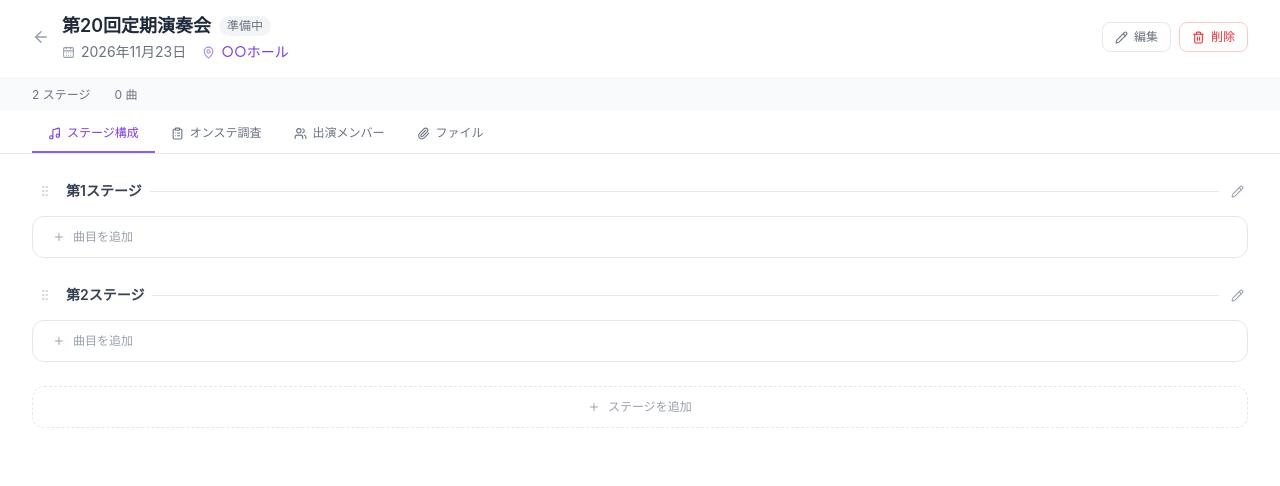
it: ConcertDetailPage（失敗の表示） › ステージ名の保存に失敗したあと、編集を取り消すとエラーを消す
Click the button named "第1ステージの名前を編集". click: (1238, 191)
box: [1227, 180, 1248, 202]
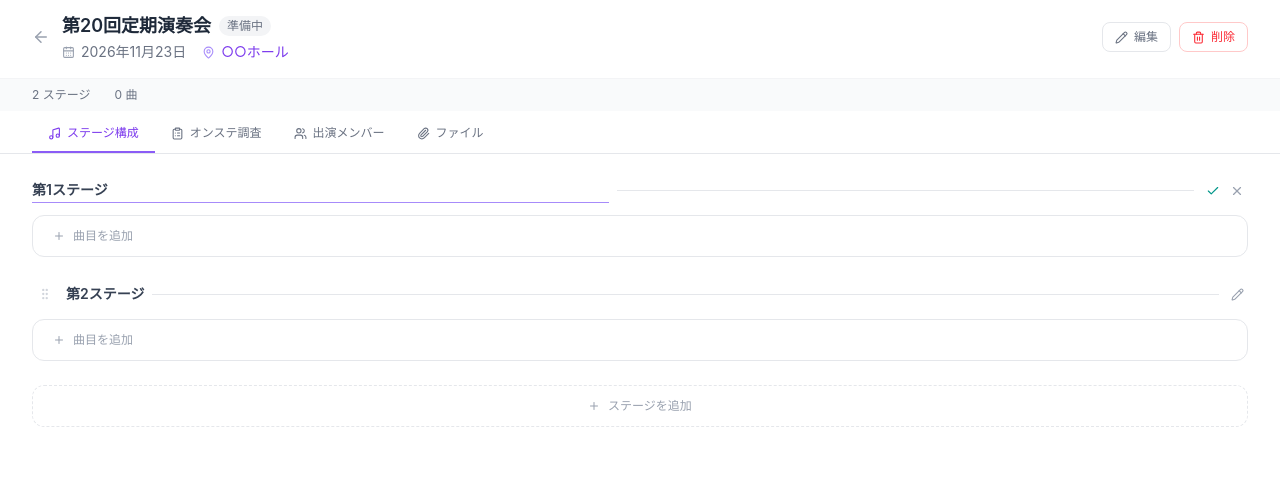
Type "改" into the field showing "第1ステージ". click: (320, 190)
box: [32, 178, 609, 203]
Then press Enter
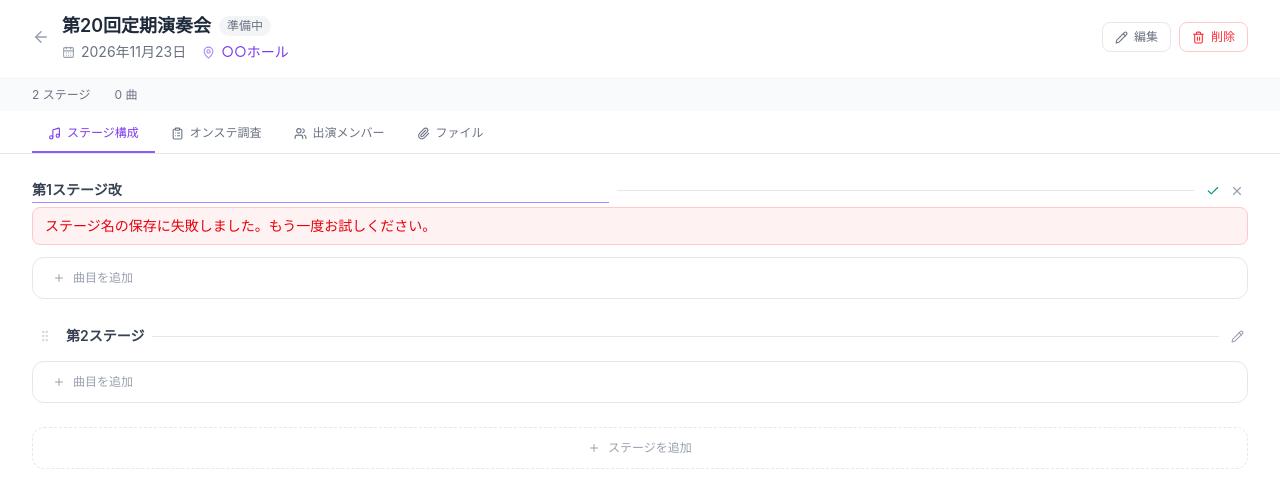
expect the message "ステージ名の保存に失敗しました。もう一度お試しください。" is shown: met, box [32, 207, 1248, 245]
Press Escape
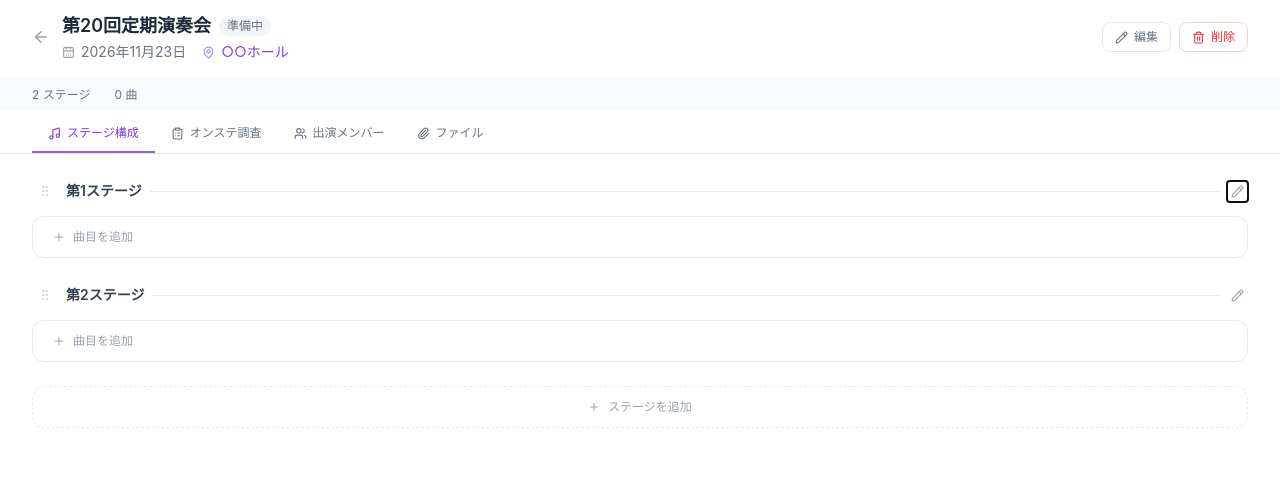
expect the message "ステージ名の保存に失敗しました。もう一度お試しください。" is gone: met
